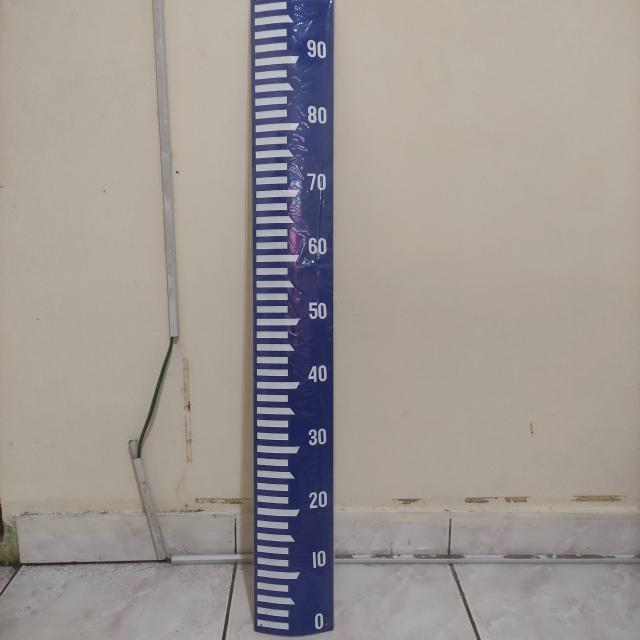ruler: (243, 0, 352, 634)
value: (301, 360, 332, 390), (302, 423, 333, 452), (304, 296, 332, 325), (304, 102, 332, 130), (301, 167, 328, 196), (302, 36, 331, 62), (303, 233, 331, 259), (306, 486, 332, 513), (304, 547, 331, 573), (310, 609, 330, 632)
